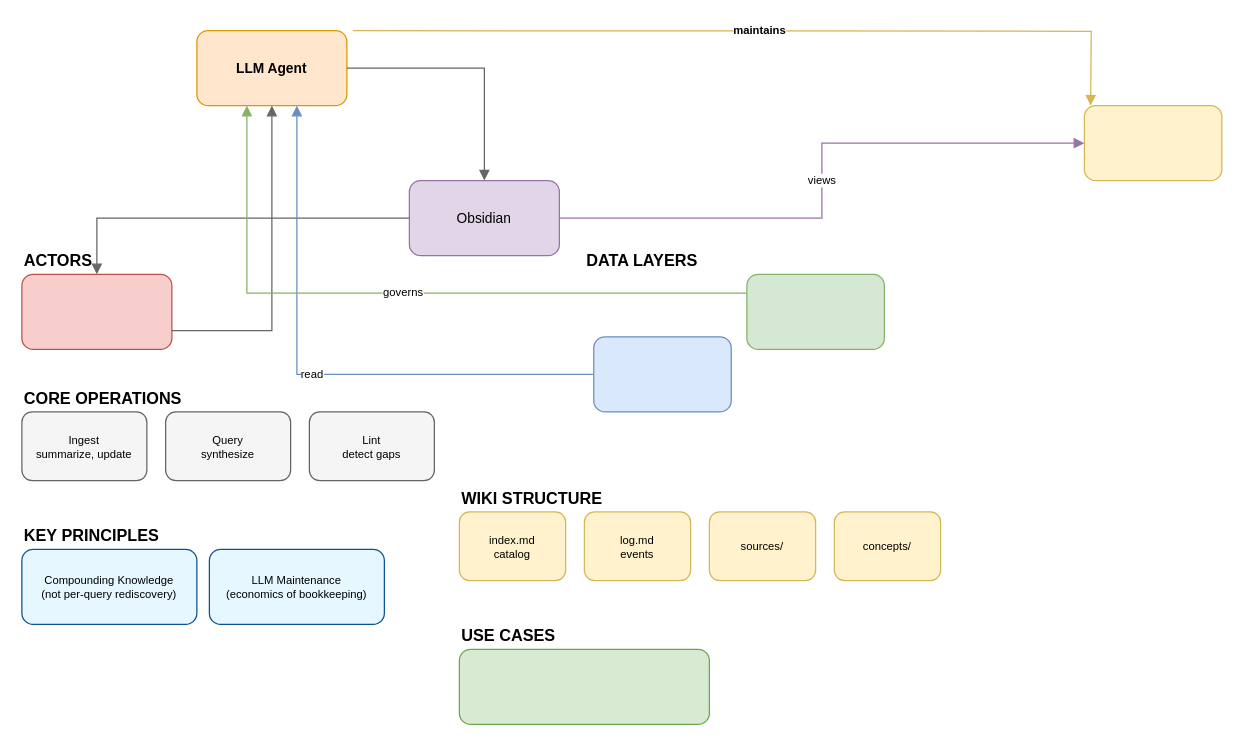
This 1244x746 diagram has some shape labels left out. The box of each missing label's shape, as (x1, y1, x2, y2) in pixels:
Human: (21, 273, 172, 349)
Raw Sources (immutable): (592, 336, 731, 412)
Research, Books, Teams, Due Diligence, Course Notes, Hobbies: (458, 648, 709, 724)
Schema (governance): (746, 273, 884, 349)
Wiki (maintained): (1083, 104, 1222, 181)
